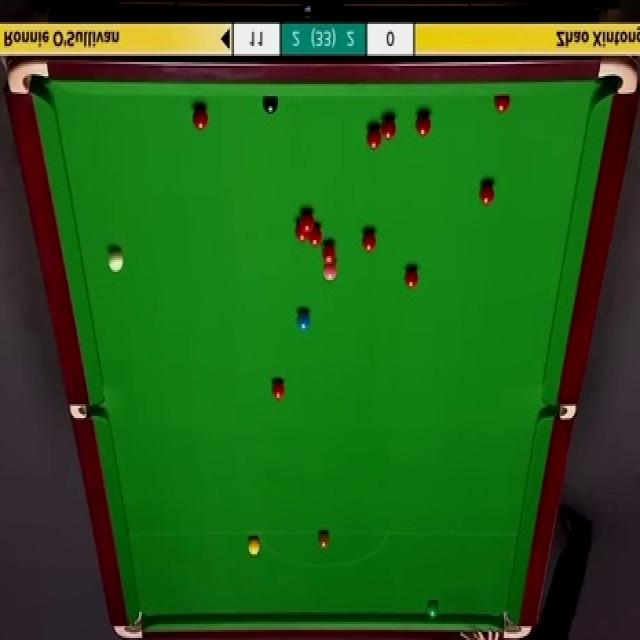black-ball: (262, 95, 280, 117)
blue-ball: (295, 307, 311, 332)
brown-ball: (316, 529, 330, 552)
green-ball: (425, 600, 440, 619)
pink-ball: (323, 258, 338, 286)
red-ball: (380, 112, 398, 143), (403, 262, 420, 291), (414, 111, 431, 137), (477, 182, 494, 207), (366, 125, 382, 151), (361, 228, 376, 253), (194, 106, 208, 132), (271, 378, 286, 401), (308, 222, 322, 246), (322, 240, 336, 263), (494, 94, 510, 114), (301, 210, 314, 230), (295, 222, 308, 242)
white-ball: (106, 247, 123, 273)
yellow-ball: (246, 537, 260, 557)
